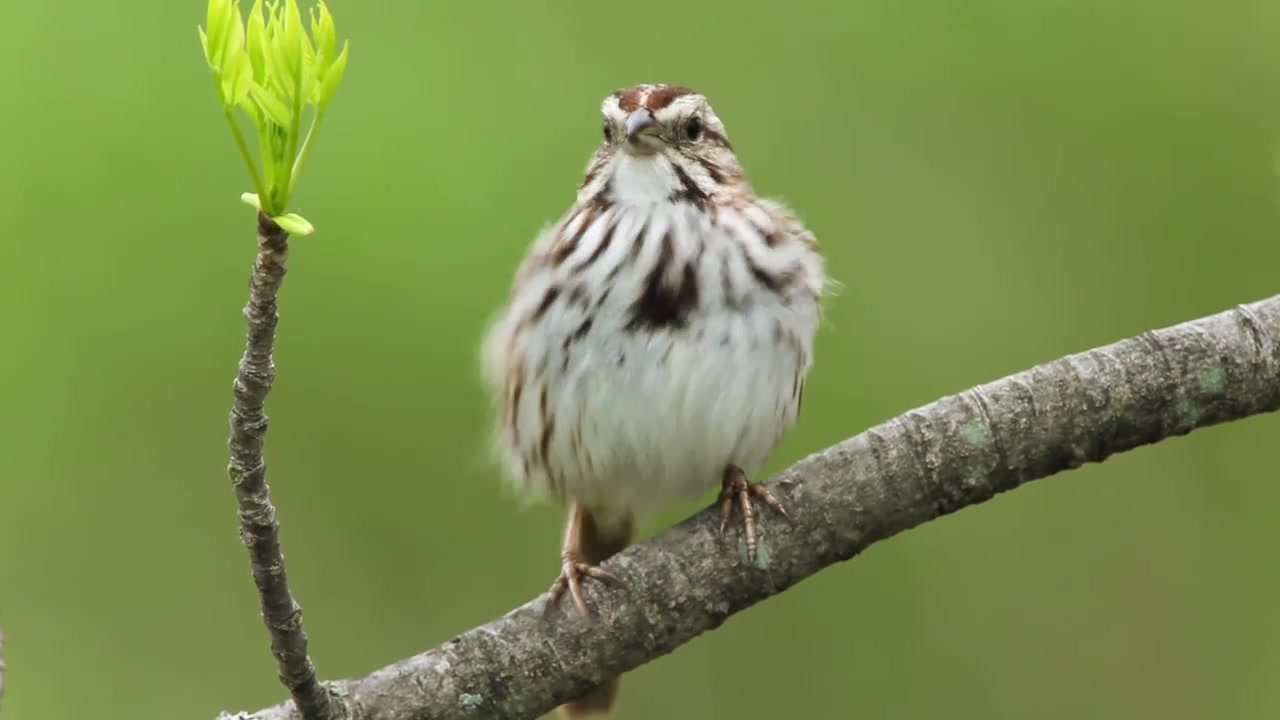bird: (477, 80, 832, 717)
